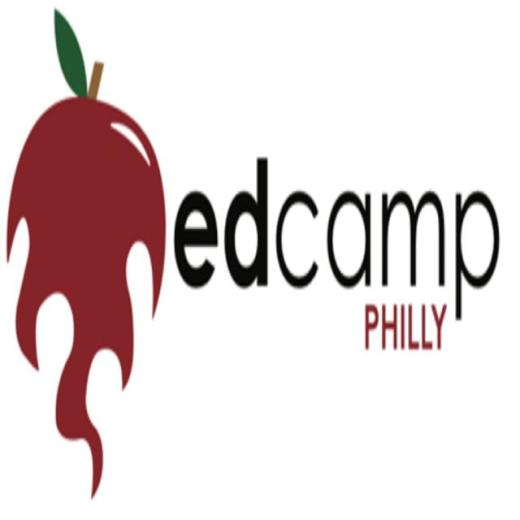Apple: (5, 58, 166, 494)
